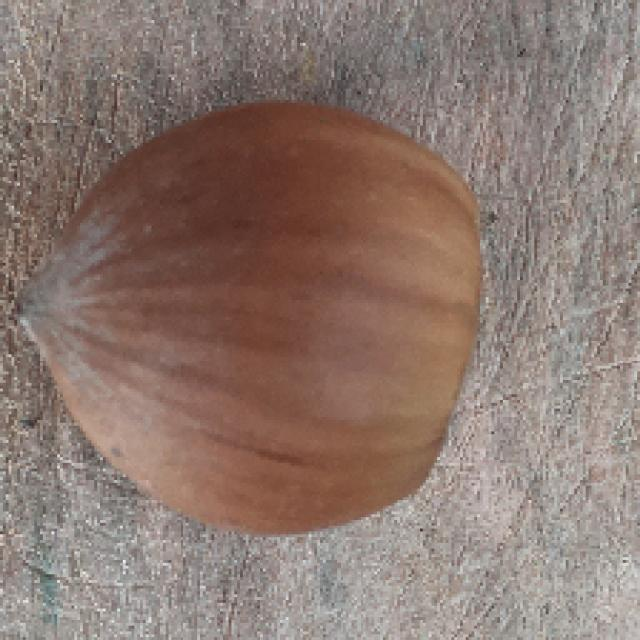qualityHazelnut: (11, 97, 493, 540)
